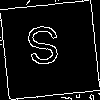S: (24, 24, 63, 75)
